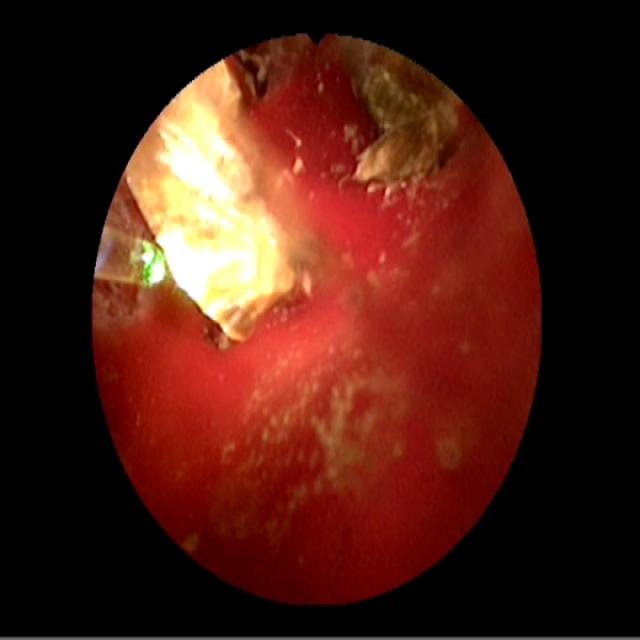stone: (132, 67, 331, 347), (353, 63, 451, 185), (235, 54, 266, 102)
tissue: (109, 57, 518, 582)
